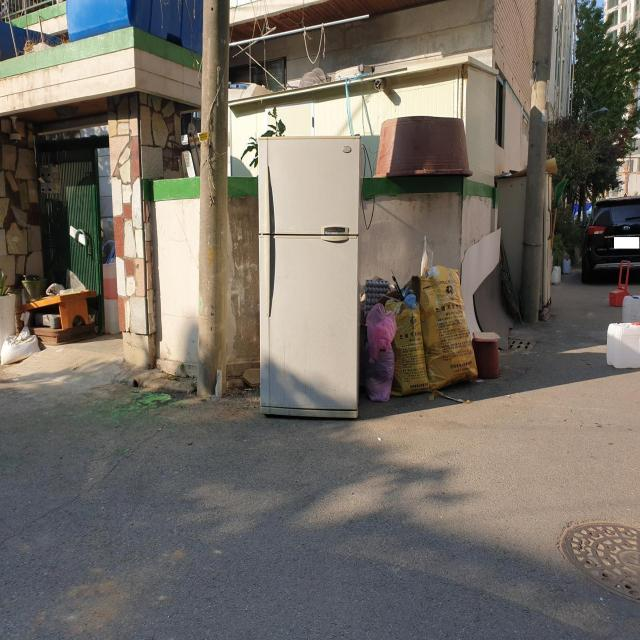refrigerator: (255, 130, 364, 420)
